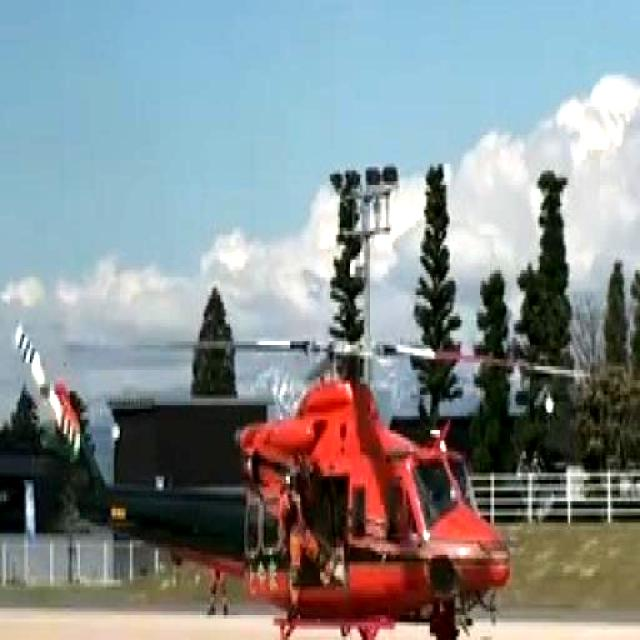drone: (11, 282, 631, 640)
